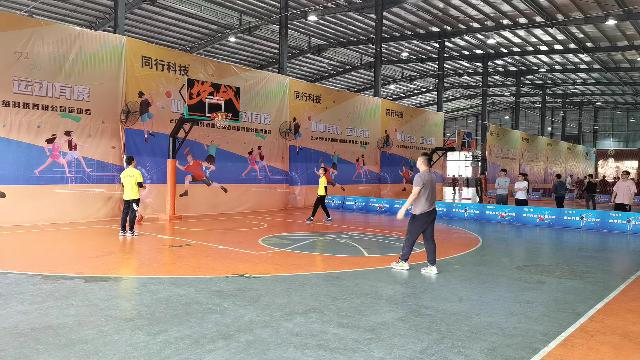ball: (136, 214, 142, 222)
basket: (213, 112, 231, 128)
goal: (216, 112, 224, 121)
